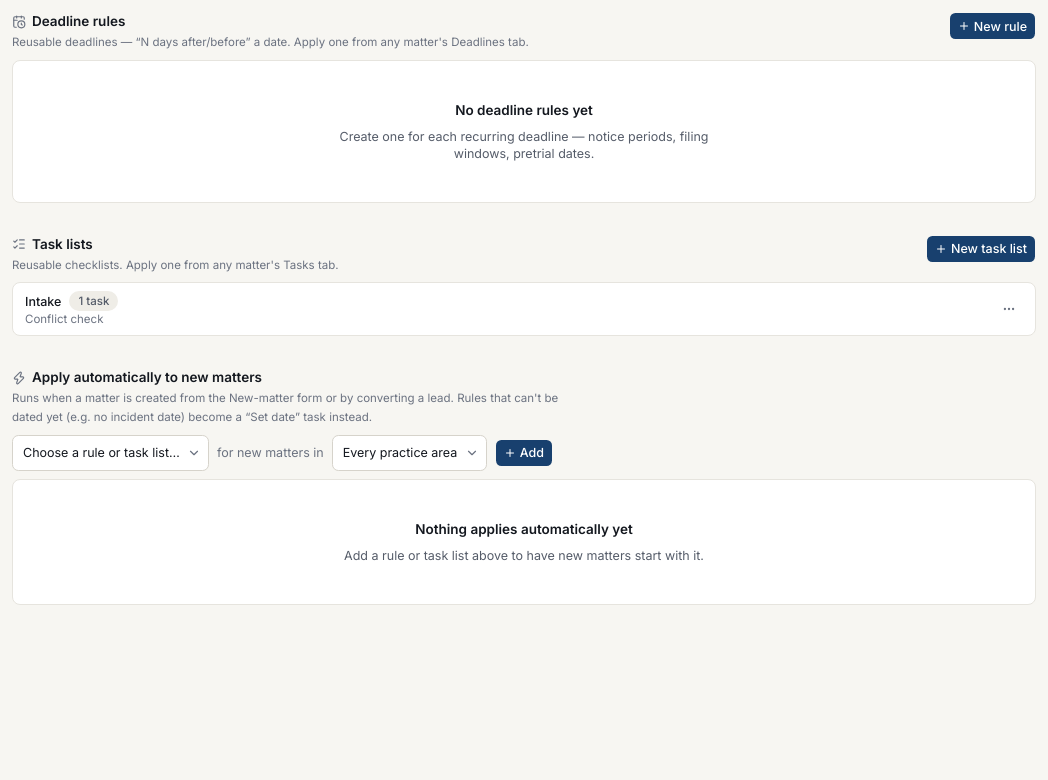
Test case: AutomationsLibrary › keeps the picked rule and practice area when adding a default fails
The width and height of the screenshot is (1048, 780).
Select "Intake" in the dropdown named "Rule or task list" at (110, 453), box x1=12 y1=435 x2=209 y2=471
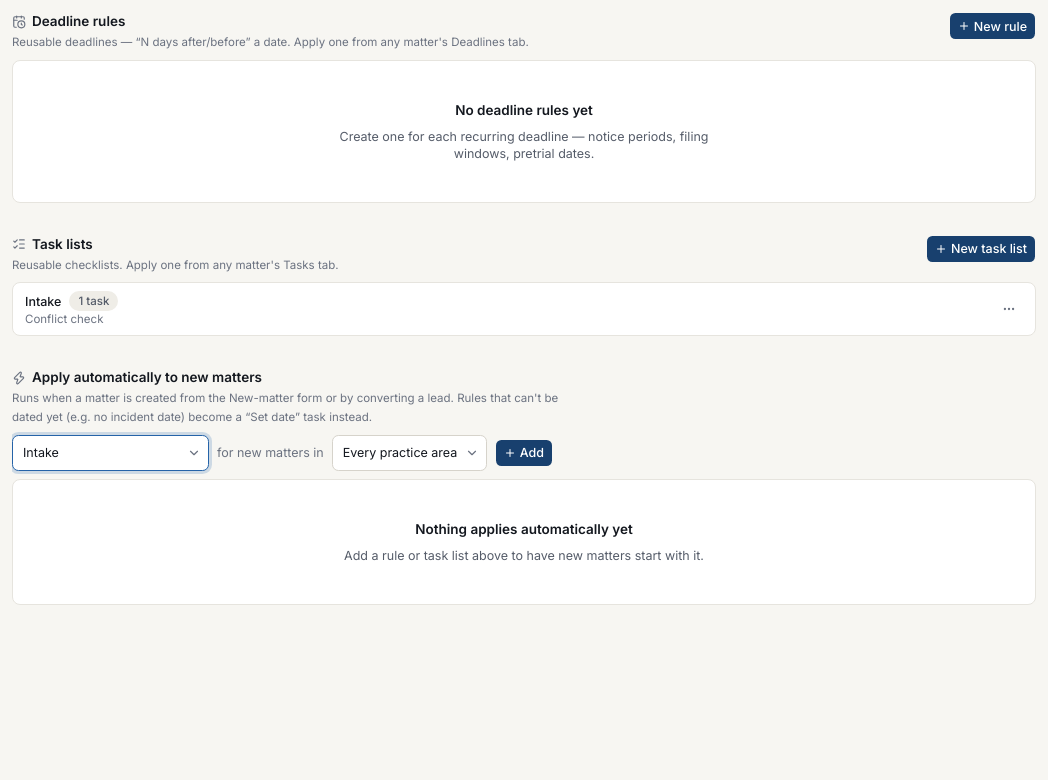
Select "Civil rights" in the dropdown named "Practice area" at (409, 453), box x1=332 y1=435 x2=487 y2=471
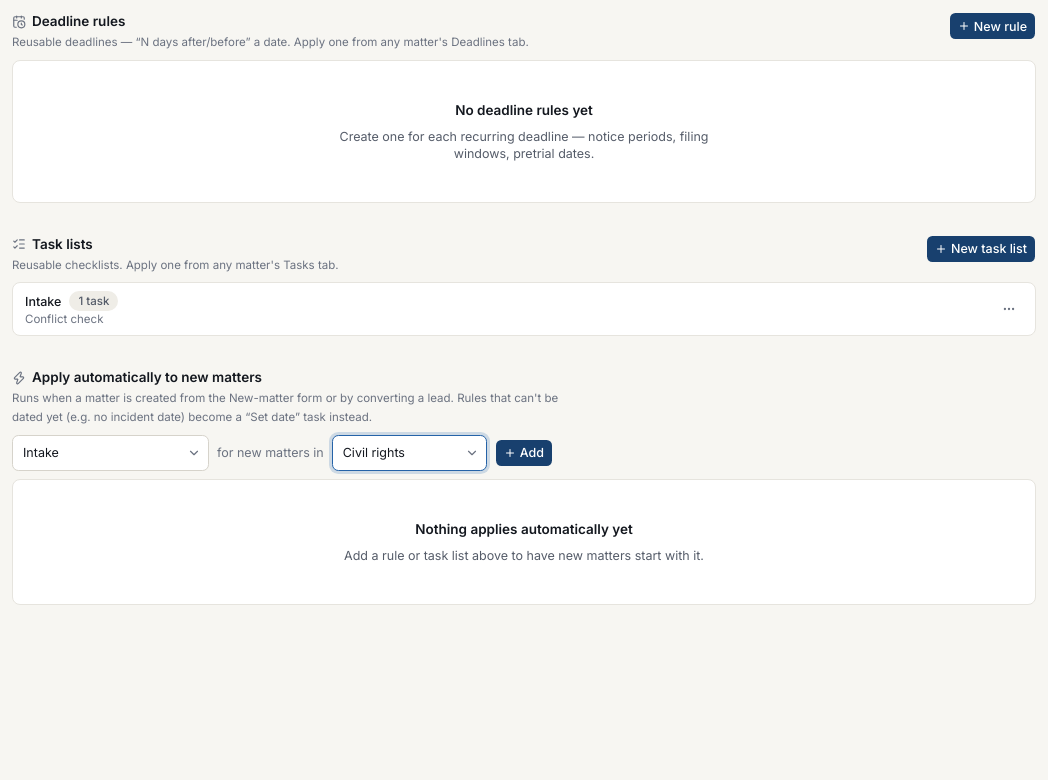
Click the button "Add".
click(524, 453)  # box x1=495 y1=439 x2=553 y2=467
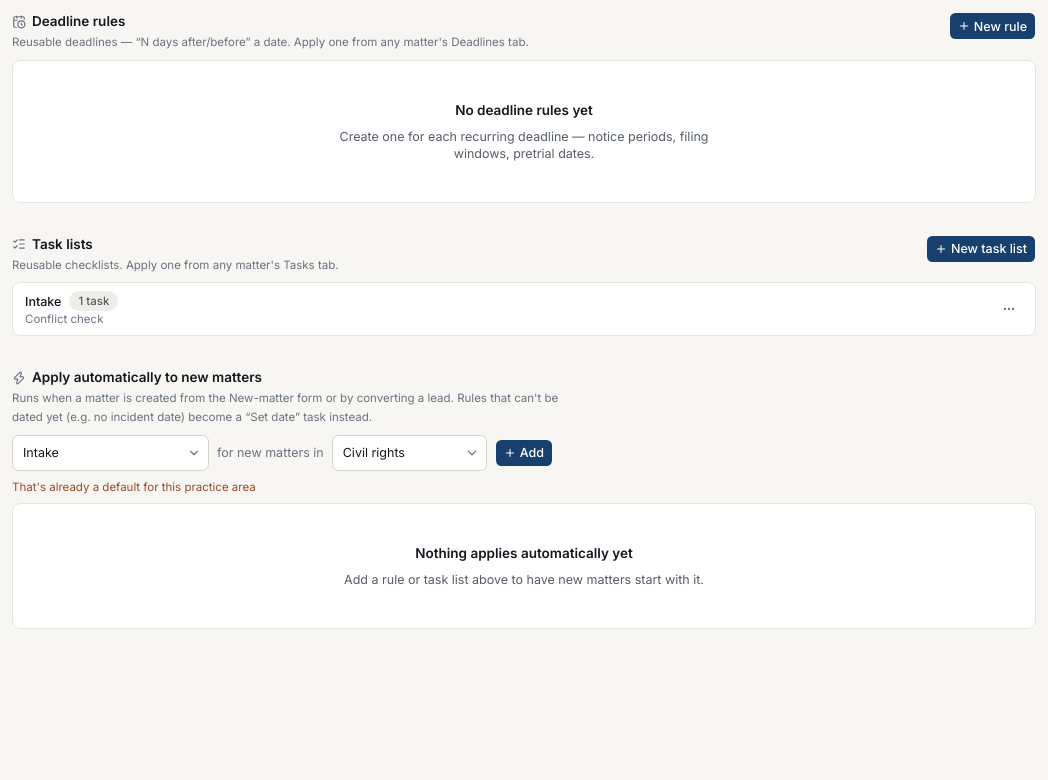
expect the text "That's already a default for this practice area" is shown: met, box x1=12 y1=480 x2=256 y2=494
